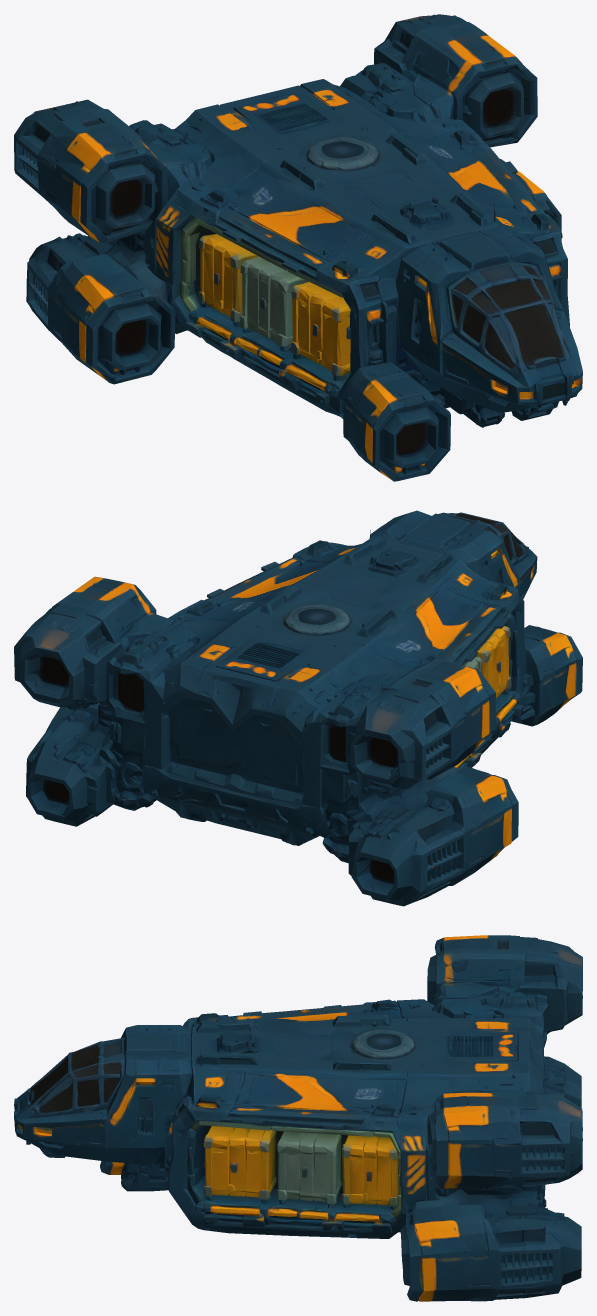
3 renders of one model, top to bottom at view 1: azimuth 30°, elevation 25°; view 2: azimuth 150°, elevation 25°; view 3: azimuth 270°, elevation 25°, orthographic. The views are drawn at different scales.
Visible parts, largest first — view 1: model; view 2: model; view 3: model.
Part boxes in pixels (bbox=[...]): model: bbox=[14, 14, 582, 481]; model: bbox=[14, 510, 582, 906]; model: bbox=[14, 935, 582, 1301].
Size of the model in its own units: 1.57 by 0.7018 by 1.9.
1 material, 1 textured.
